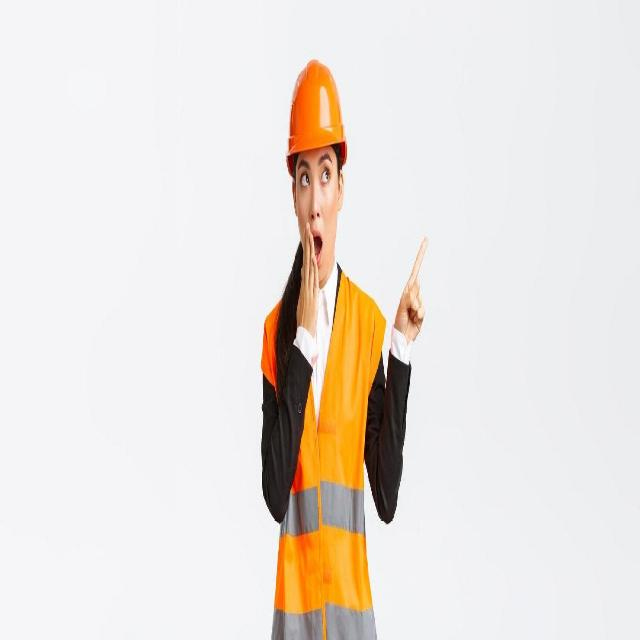Reflective-Jacket: (259, 271, 387, 640)
Safety-Helmet: (283, 54, 349, 168)
